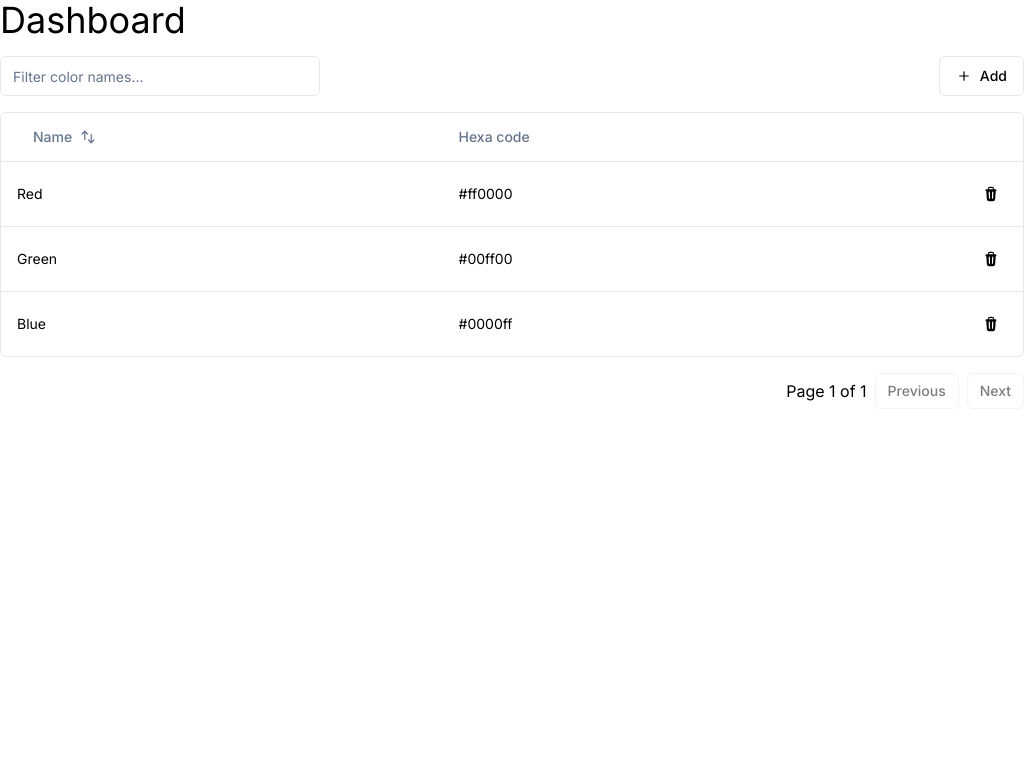
Test case: DataTable › removes a row from the table when the delete button is clicked
The image size is (1024, 768).
Expected: the text "#FF0000" is shown, [458,184,512,202]
Click the button with test id "delete-button" at point(991, 194), box [975,178,1007,210]
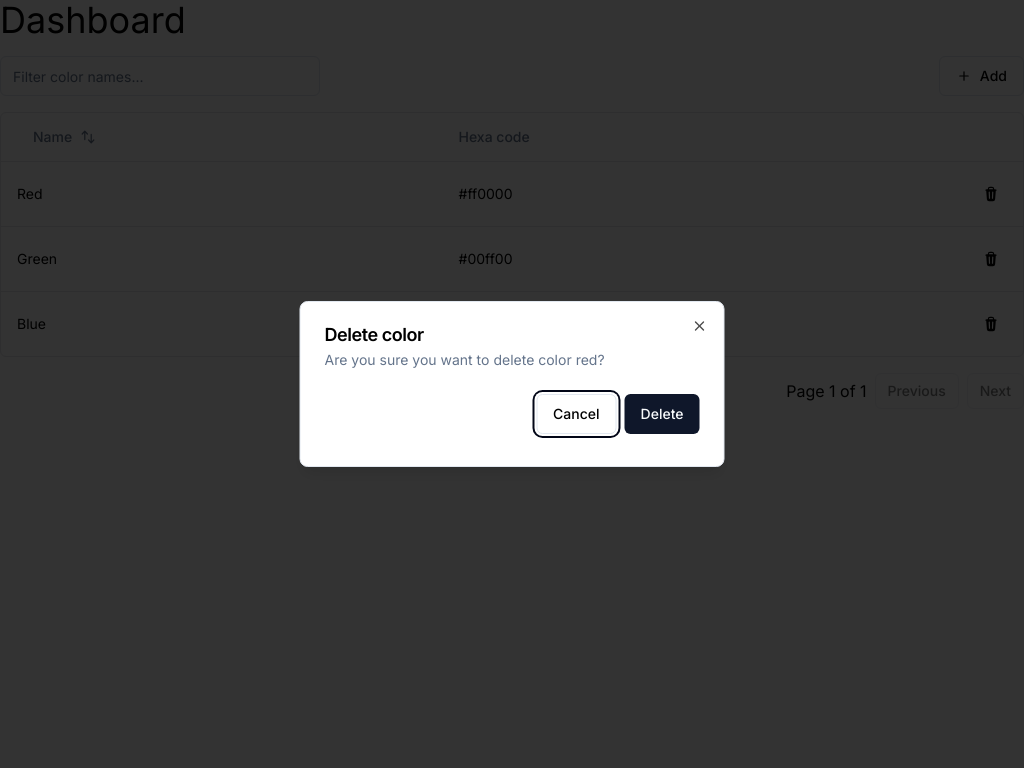
Click the button with test id "delete" at point(662, 414), box [625,394,700,434]
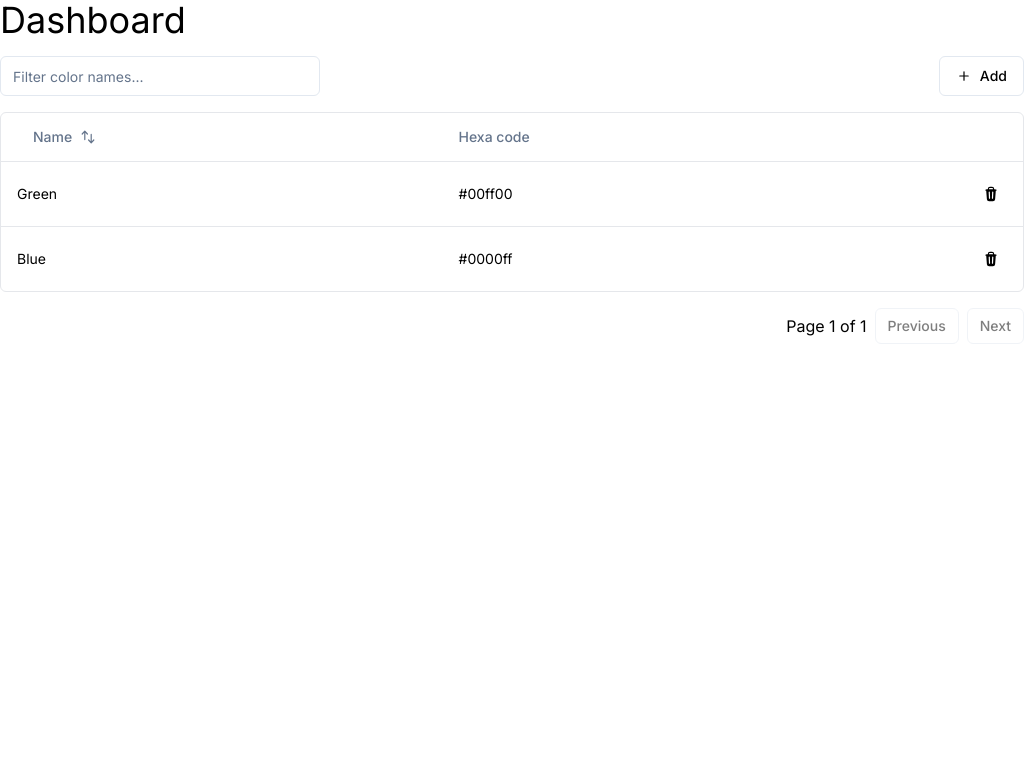
Now the text "#FF0000" is gone
